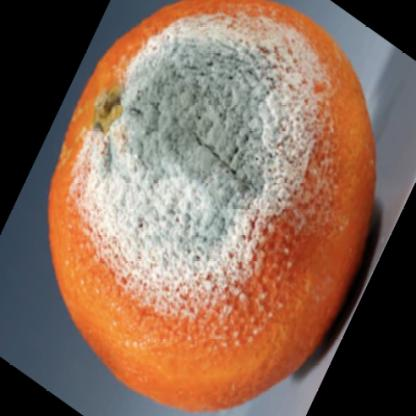rotten: (51, 1, 378, 416)
